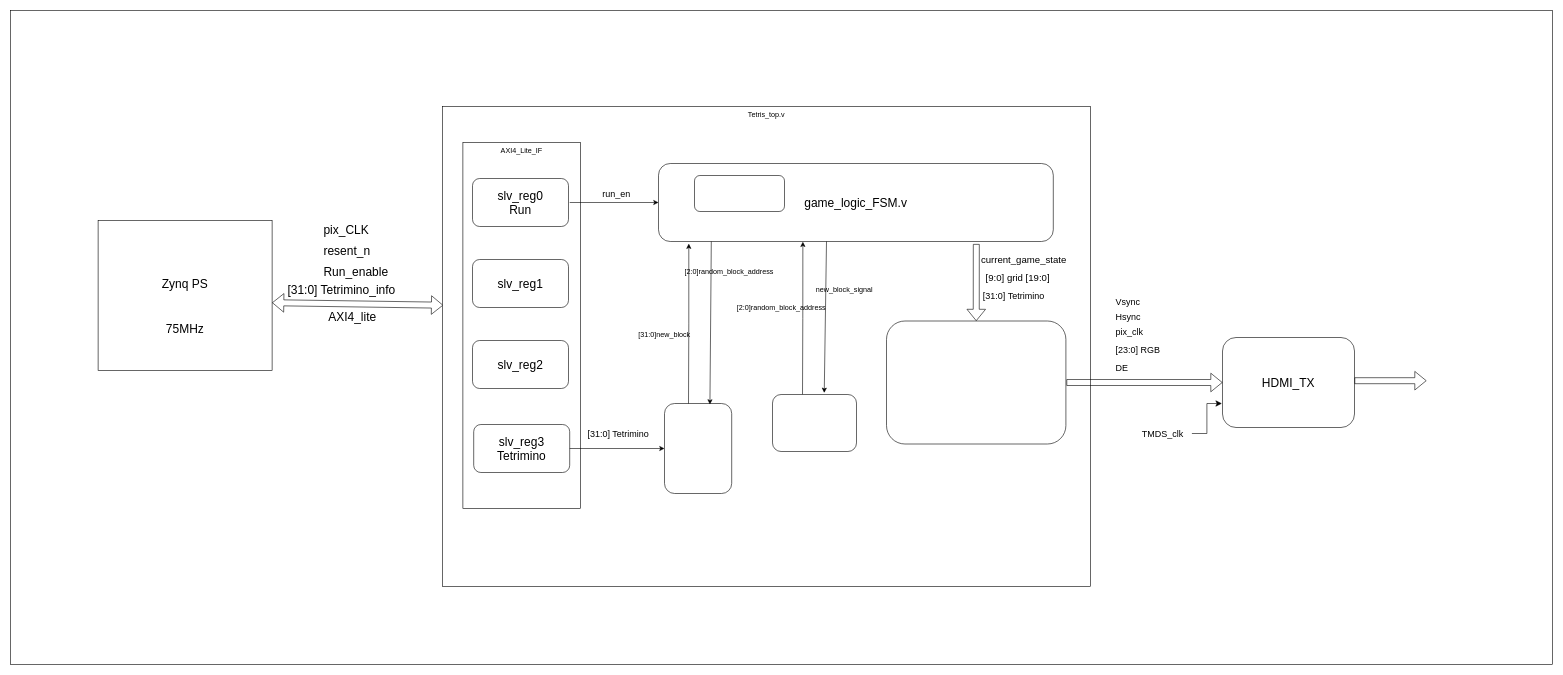
The diagram is 1563 pixels wide and 675 high, and some of its shapes have lost their labels. The centre of each missing label's shape, as x and y in pixels:
BRAM: the point at 698,448
display_control: the point at 976,382
falling_speed_ generator.v: the point at 739,193
prbs (random): the point at 814,423
